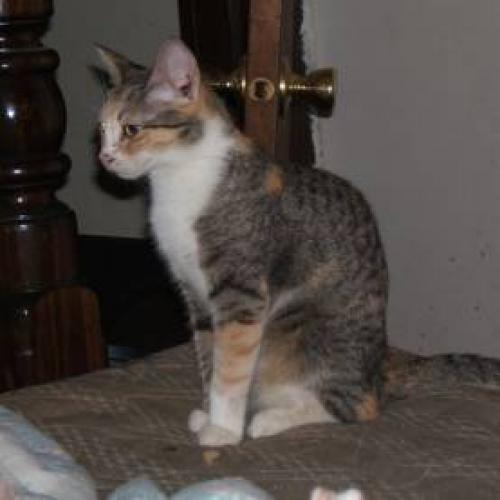cat-face: (66, 38, 234, 193)
